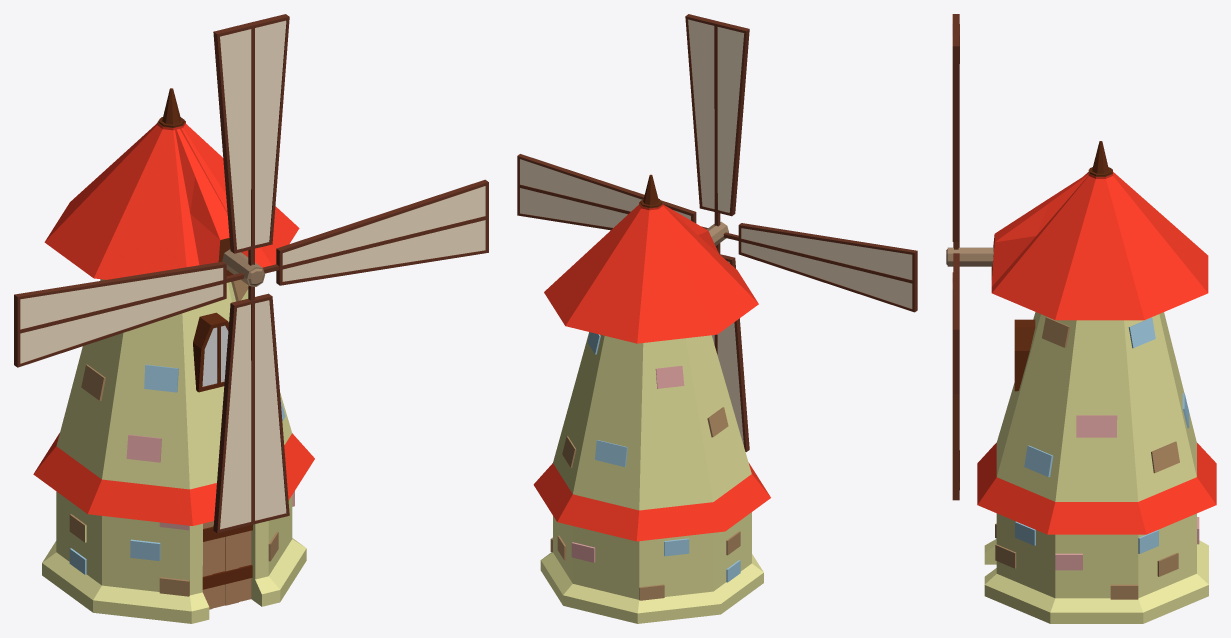
Rendered from Wind Mill.fbx.
3 views of the same model, side by side, from view 1: azimuth 30°, elevation 25°; view 2: azimuth 150°, elevation 25°; view 3: azimuth 270°, elevation 25° (orthographic). The views are drawn at different scales.
Parts seen in each view (by area): view 1: Mill, Mill Blades; view 2: Mill, Mill Blades; view 3: Mill, Mill Blades.
Boxes of the visible parts, bbox=[...] form: Mill: bbox=[33, 88, 314, 623]; Mill Blades: bbox=[14, 14, 488, 533]; Mill: bbox=[533, 174, 770, 623]; Mill Blades: bbox=[517, 14, 917, 451]; Mill: bbox=[977, 141, 1216, 623]; Mill Blades: bbox=[946, 14, 993, 500].
Bounding box in the file's own units: 1372 × 1671 × 748.
